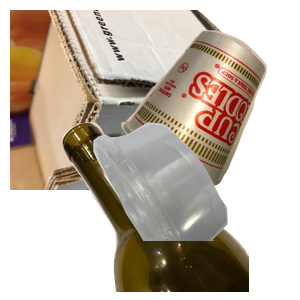cardboard: (10, 10, 250, 190)
glass: (60, 120, 300, 300)
plastic: (91, 120, 300, 300)
trash: (119, 28, 300, 207)
